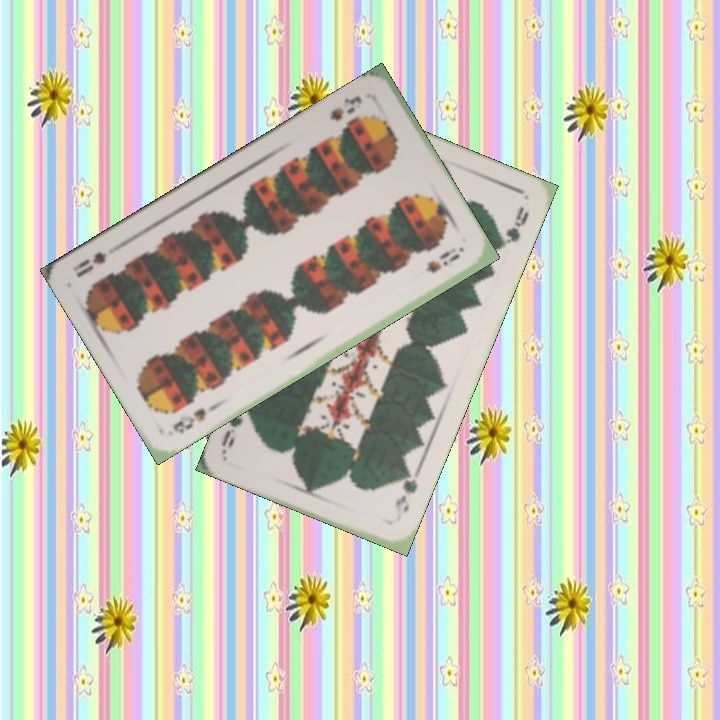G9: (390, 466, 422, 517)
S8: (168, 400, 220, 436), (326, 91, 365, 124)
